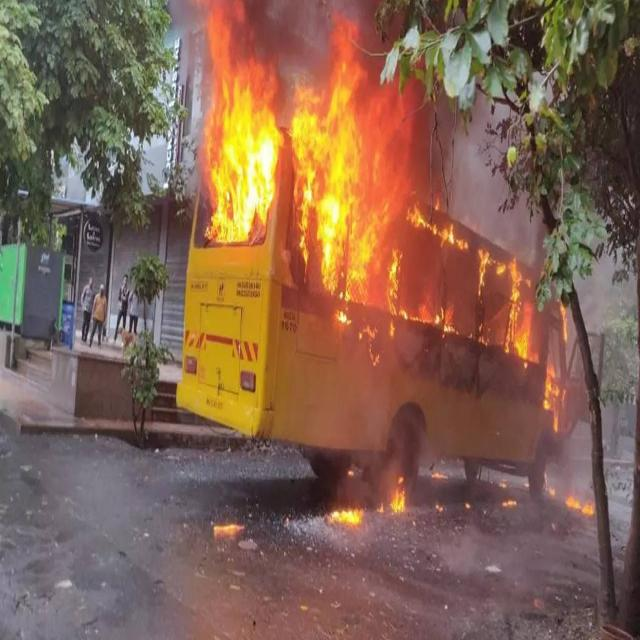fire: (202, 60, 398, 292), (497, 257, 531, 361), (541, 355, 563, 439), (378, 475, 407, 518), (328, 506, 363, 526)
